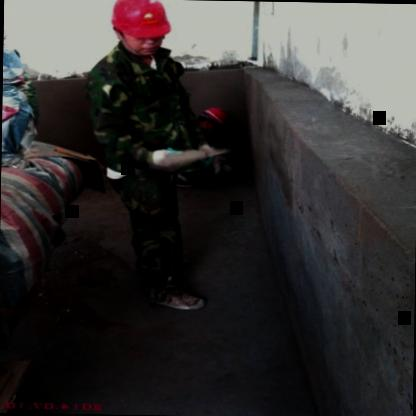helmet: (108, 0, 171, 54), (198, 104, 226, 132)
